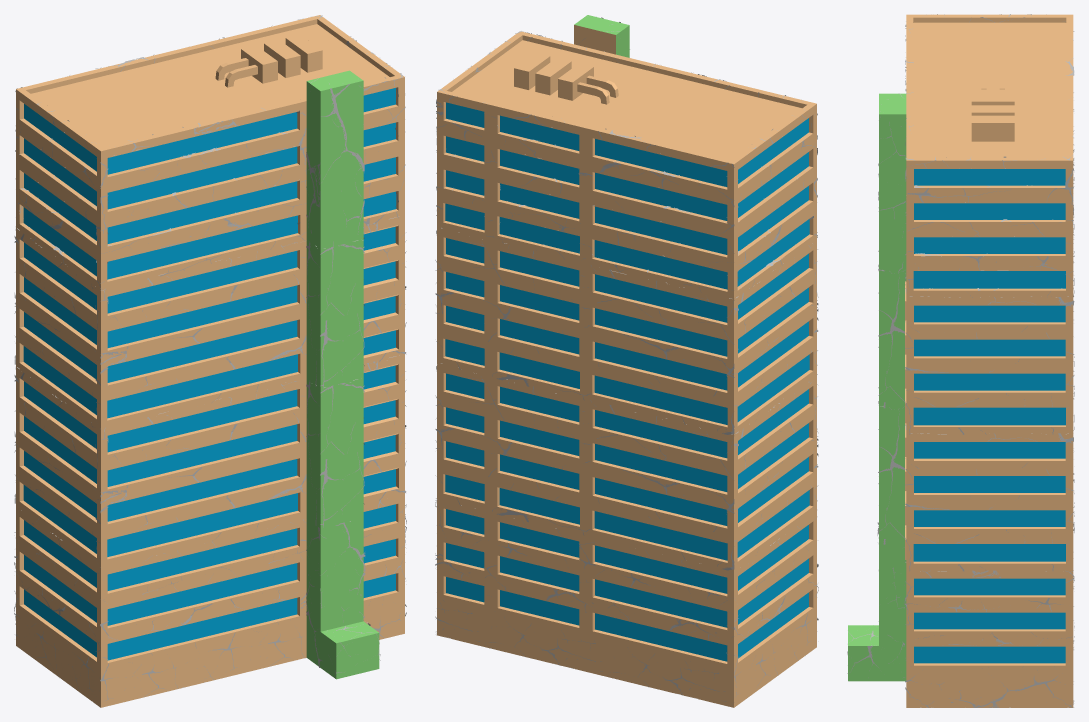
Rendered from Building_03fbx.fbx.
3 views of the same model, side by side, from view 1: azimuth 30°, elevation 25°; view 2: azimuth 150°, elevation 25°; view 3: azimuth 270°, elevation 25° (orthographic). The views are drawn at different scales.
Visible parts, largest first — view 1: Building_03_Cracked, Building_03; view 2: Building_03, Building_03_Cracked; view 3: Building_03_Cracked, Building_03.
Part boxes in pixels (x1,y1,x2,y2): Building_03_Cracked: [14, 15, 406, 706]; Building_03: [16, 39, 404, 707]; Building_03: [437, 26, 816, 707]; Building_03_Cracked: [435, 15, 818, 701]; Building_03_Cracked: [847, 14, 1074, 707]; Building_03: [848, 19, 1073, 707].
Size of the model in its own units: 232 by 416 by 151.
